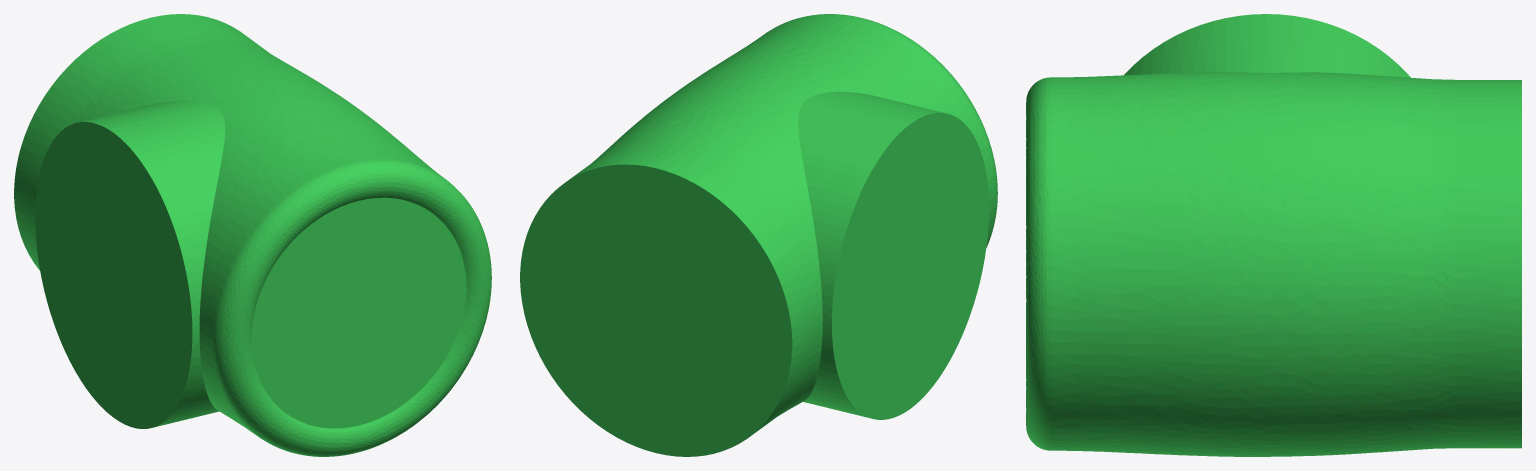
File: Lexium_Cobot_L18S_mm_urdf-Link_013.obj
The picture shows the model from 3 angles, left to right: view 1: azimuth 30°, elevation 25°; view 2: azimuth 150°, elevation 25°; view 3: azimuth 270°, elevation 25°; orthographic projection. The views are drawn at different scales.
Parts seen in each view (by area): view 1: Link_013; view 2: Link_013; view 3: Link_013.
Boxes of the visible parts, bbox=[...] form: Link_013: bbox=[14, 14, 491, 456]; Link_013: bbox=[520, 14, 997, 456]; Link_013: bbox=[1026, 14, 1521, 456].
Bounding box in the file's own units: 156 × 155 × 199.
